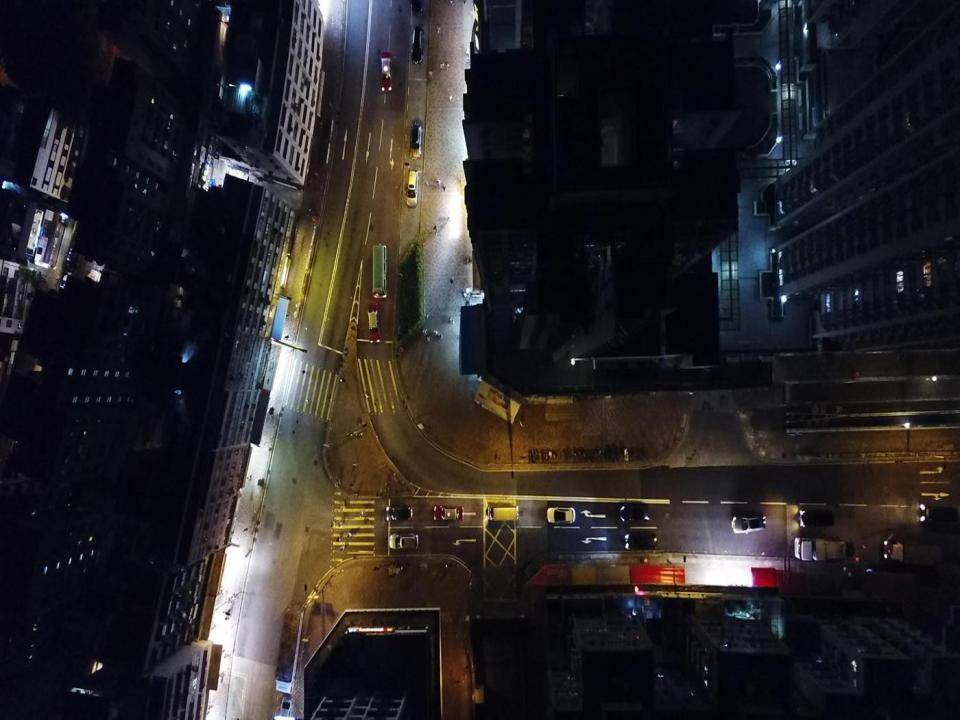bus: (372, 244, 388, 299)
car: (731, 512, 767, 534), (798, 508, 836, 528), (623, 531, 658, 550), (366, 300, 381, 344), (618, 502, 650, 522), (546, 506, 576, 525), (433, 504, 464, 522), (380, 50, 393, 92), (389, 531, 419, 549), (411, 25, 424, 64), (385, 504, 413, 522), (409, 122, 422, 159), (406, 168, 418, 208), (280, 696, 292, 719)
truck: (276, 600, 304, 694), (883, 534, 943, 569), (793, 535, 856, 564)
van: (919, 504, 958, 528), (487, 505, 519, 522)
